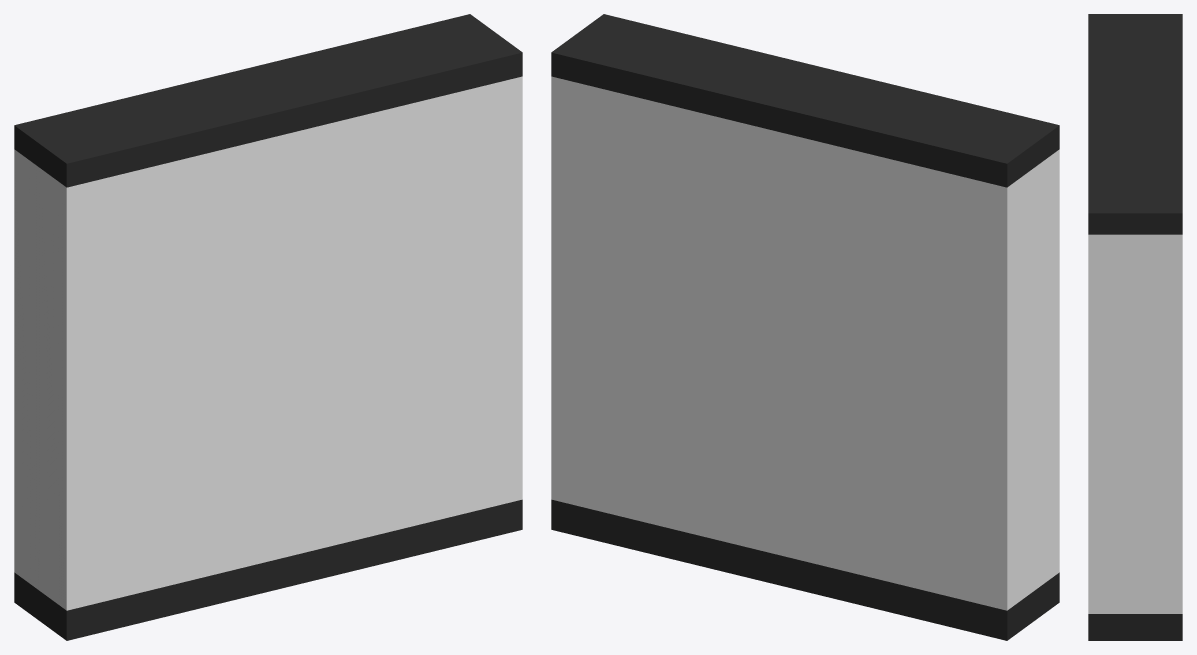
Rendered from GAMEJAMHERO - Walls(Inside Whole).fbx.
3 views of the same model, side by side, from view 1: azimuth 30°, elevation 25°; view 2: azimuth 150°, elevation 25°; view 3: azimuth 270°, elevation 25° (orthographic). The views are drawn at different scales.
Visible parts, largest first — view 1: Wall(Outside Wrap).003; view 2: Wall(Outside Wrap).003; view 3: Wall(Outside Wrap).003.
Part boxes in pixels (x1,y1,x2,y2): Wall(Outside Wrap).003: [14, 14, 522, 640]; Wall(Outside Wrap).003: [551, 14, 1059, 640]; Wall(Outside Wrap).003: [1088, 14, 1182, 640].
Bounding box in the file's own units: 500 × 500 × 100.
1 material, 1 textured.
